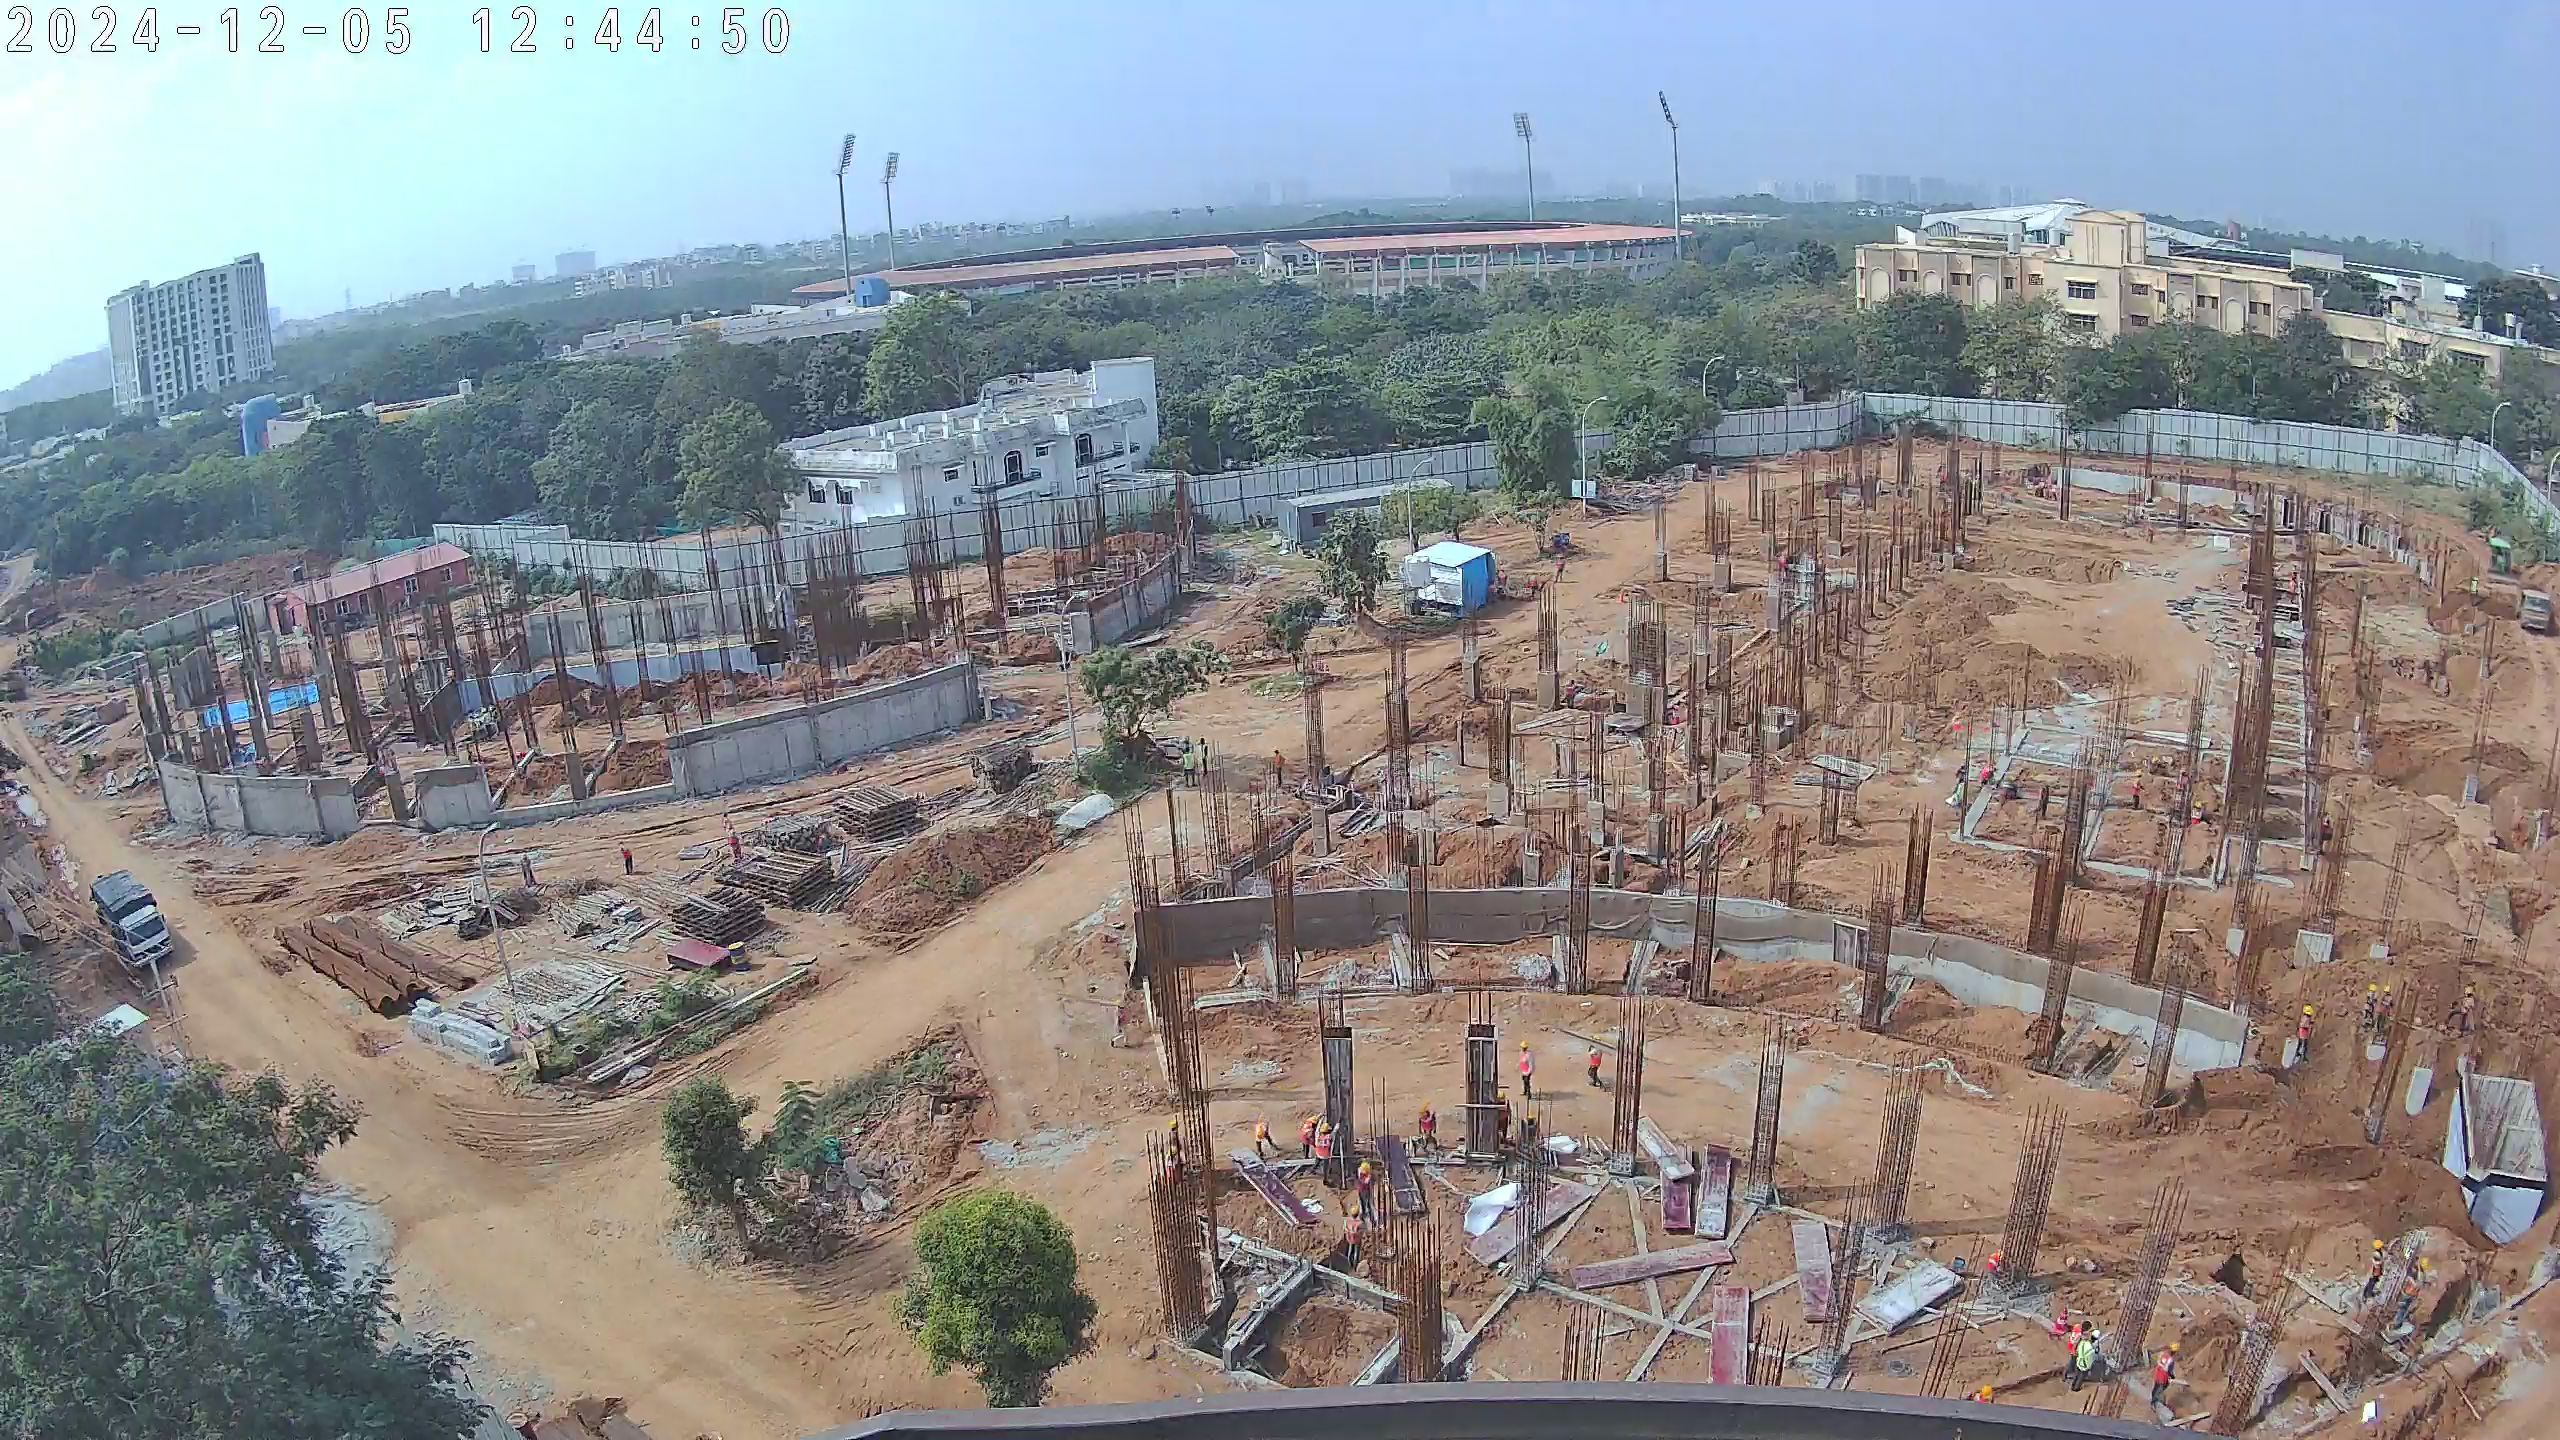truck: (85, 870, 178, 973)
worker: (1350, 1154, 1389, 1231), (2389, 1264, 2429, 1332), (1336, 1204, 1368, 1280), (2146, 1341, 2180, 1411), (2068, 1326, 2101, 1395), (2359, 1235, 2393, 1301), (2443, 977, 2479, 1037), (1514, 1039, 1541, 1114), (1410, 1104, 1443, 1164), (2291, 1004, 2320, 1068), (1960, 1374, 2000, 1420), (1252, 1111, 1286, 1162), (2066, 1314, 2093, 1376), (614, 837, 647, 887), (1163, 1115, 1192, 1171), (1581, 1039, 1608, 1099), (1311, 1121, 1335, 1188), (2027, 773, 2054, 832), (1296, 1113, 1320, 1164), (2372, 983, 2395, 1033), (516, 848, 540, 895), (2127, 767, 2150, 816), (1949, 759, 1973, 805), (1269, 746, 1288, 794), (1561, 678, 1584, 715), (1197, 733, 1214, 782), (2362, 981, 2379, 1027), (1181, 746, 1198, 791), (725, 827, 746, 863), (2186, 796, 2207, 831), (1525, 570, 1543, 607), (2284, 569, 2302, 605), (1552, 552, 1570, 587), (720, 810, 738, 841), (1496, 567, 1513, 595), (1776, 552, 1790, 582), (1667, 702, 1683, 728), (2142, 522, 2158, 548)
